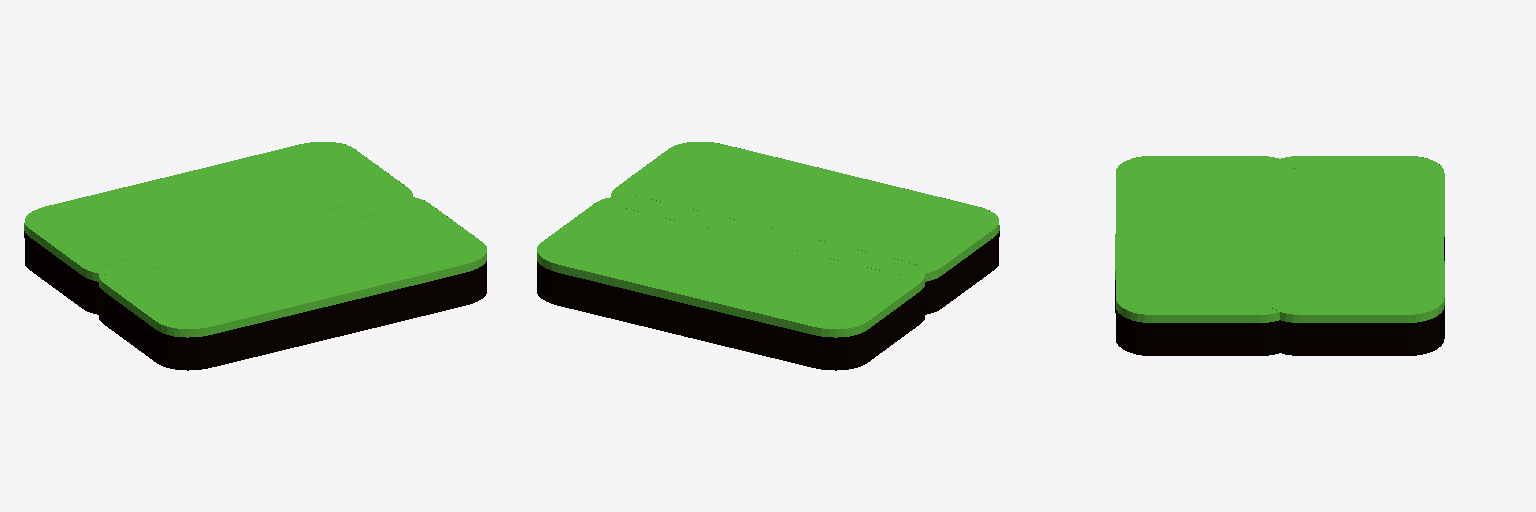
Rendered from island_block.obj.
3 views of the same model, side by side, from view 1: azimuth 30°, elevation 25°; view 2: azimuth 150°, elevation 25°; view 3: azimuth 270°, elevation 25° (orthographic).
Visible parts, largest first — view 1: Cube.018_Cube.050; view 2: Cube.018_Cube.050; view 3: Cube.018_Cube.050.
Part boxes in pixels (x1,y1,x2,y2): Cube.018_Cube.050: (24, 142, 486, 370); Cube.018_Cube.050: (537, 142, 999, 370); Cube.018_Cube.050: (1115, 156, 1444, 355).
Bounding box in the file's own units: 44.28 × 5.35 × 38.71.